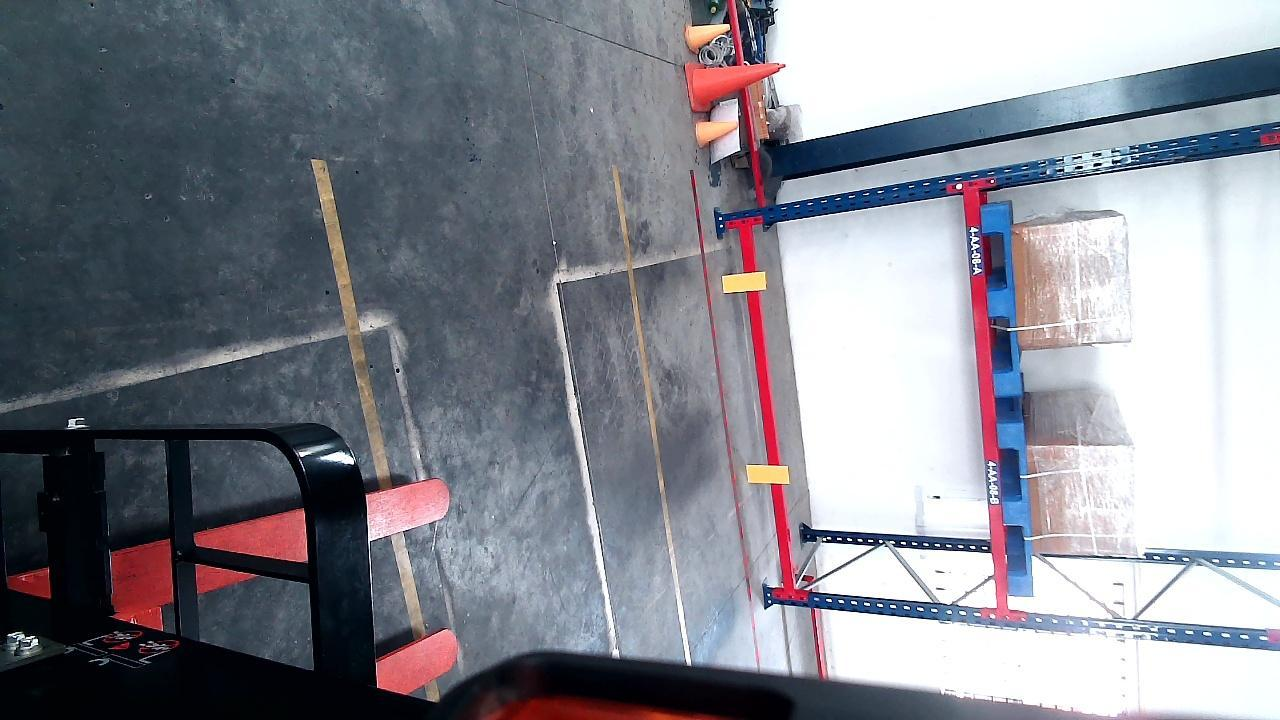red_line: (689, 173, 752, 600)
yellow_line: (314, 153, 435, 712), (612, 170, 692, 626)
